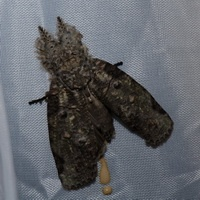insect: (29, 17, 172, 189)
